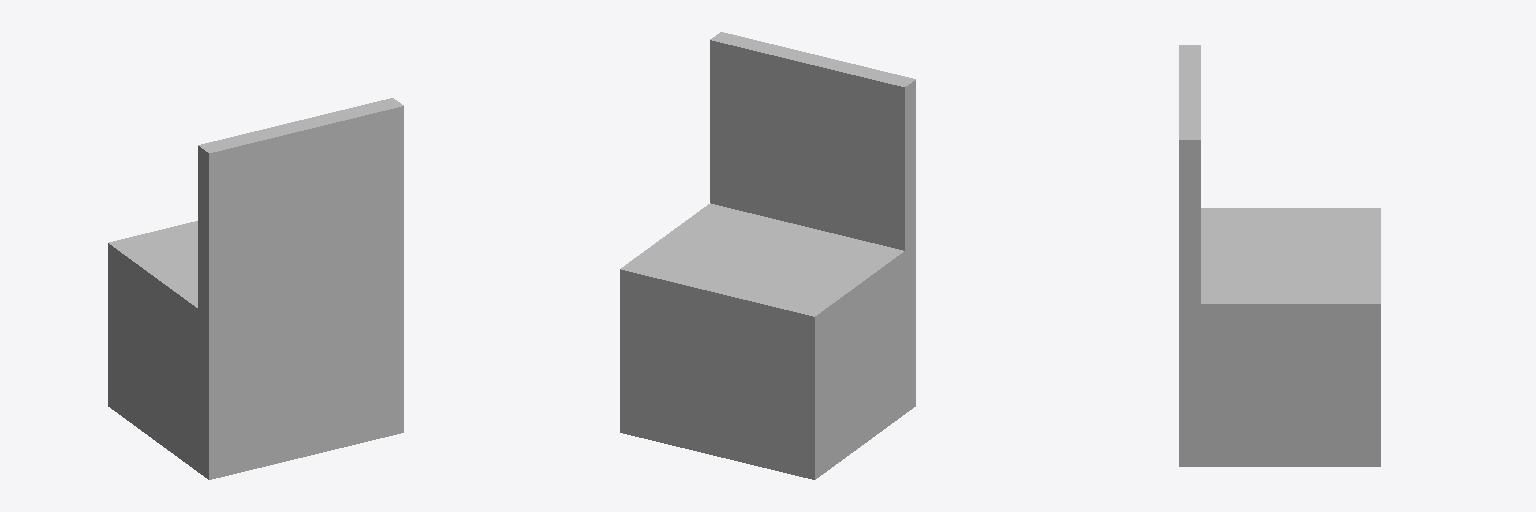
File: cadeira.obj
3 renders of one model, left to right at view 1: azimuth 30°, elevation 25°; view 2: azimuth 150°, elevation 25°; view 3: azimuth 270°, elevation 25°, orthographic.
Visible parts, largest first — view 1: Block1, Block; view 2: Block1, Block; view 3: Block1, Block.
Part boxes in pixels (x1,y1,x2,y2): Block1: (108,221,403,479); Block: (198,98,403,316); Block1: (620,203,915,479); Block: (710,32,915,250); Block1: (1179,208,1380,466); Block: (1179,45,1200,303).
Size of the model in its own units: 0.625 by 1 by 0.5625.